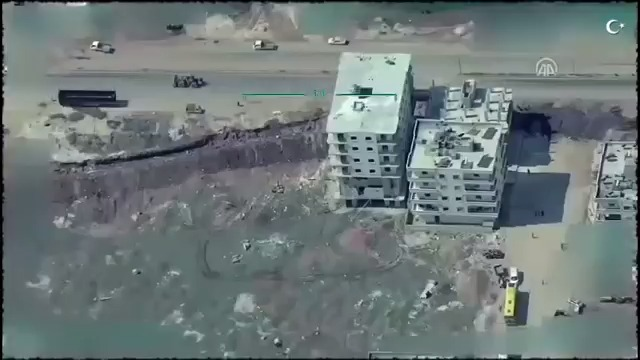arac: (498, 282, 528, 326), (173, 72, 208, 93), (251, 36, 282, 53), (90, 39, 118, 56), (508, 261, 524, 282), (329, 34, 350, 47), (186, 103, 206, 116)
bina: (318, 45, 430, 213), (403, 116, 511, 224), (442, 74, 523, 128)
insan: (536, 275, 547, 288), (525, 165, 532, 176), (529, 229, 536, 240), (540, 208, 547, 219)
